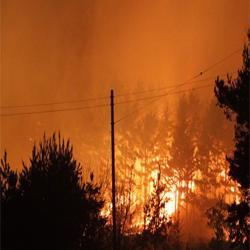fire: (153, 174, 180, 221)
